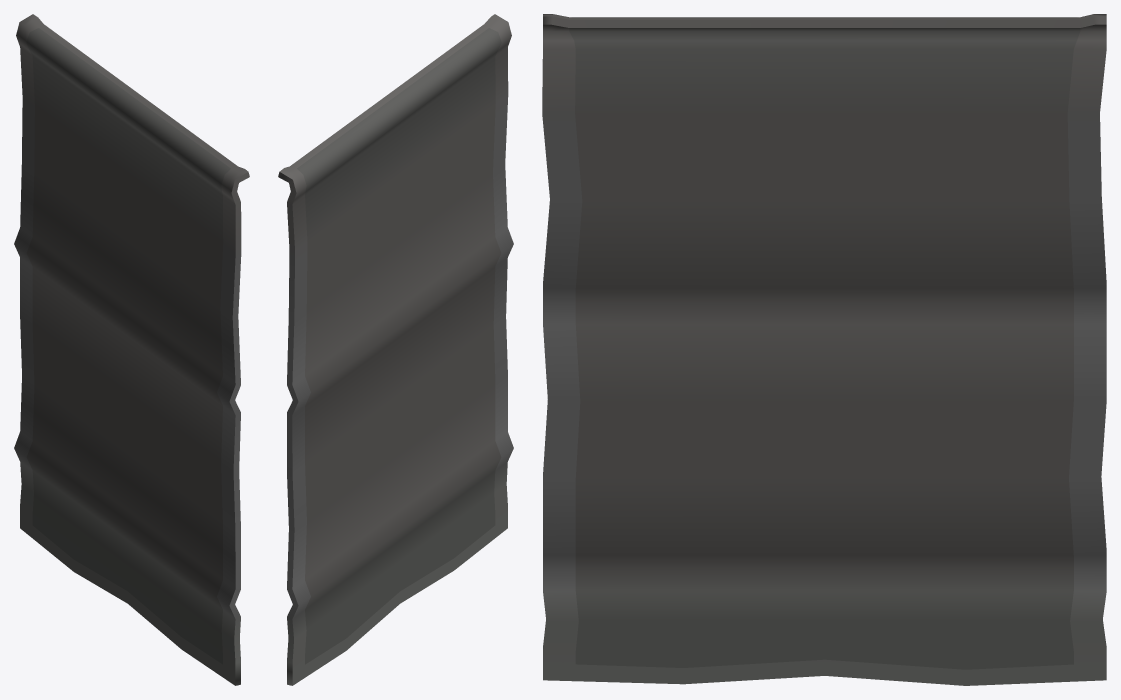
The model's file is Scaffold_sheet_1_1.fbx.
The picture shows the model from 3 angles, left to right: view 1: azimuth 30°, elevation 25°; view 2: azimuth 150°, elevation 25°; view 3: azimuth 270°, elevation 25°; orthographic projection. The views are drawn at different scales.
Visible parts, largest first — view 1: Scaffold_sheet_1_1; view 2: Scaffold_sheet_1_1; view 3: Scaffold_sheet_1_1.
Part boxes in pixels (bbox=[...]): Scaffold_sheet_1_1: bbox=[14, 14, 249, 685]; Scaffold_sheet_1_1: bbox=[278, 14, 513, 685]; Scaffold_sheet_1_1: bbox=[542, 14, 1106, 685].
Size of the model in its own units: 10.1 by 242 by 184.
